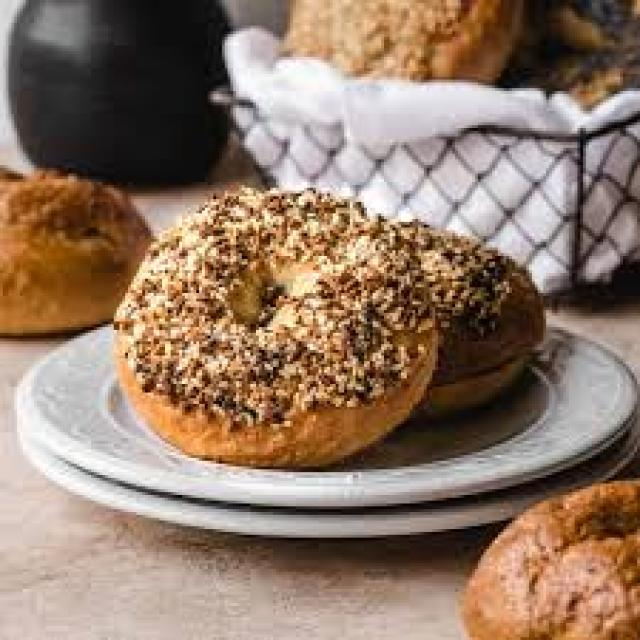Bagel: (119, 194, 438, 467), (462, 480, 640, 640), (0, 172, 152, 334), (419, 225, 544, 411), (282, 0, 522, 82)
